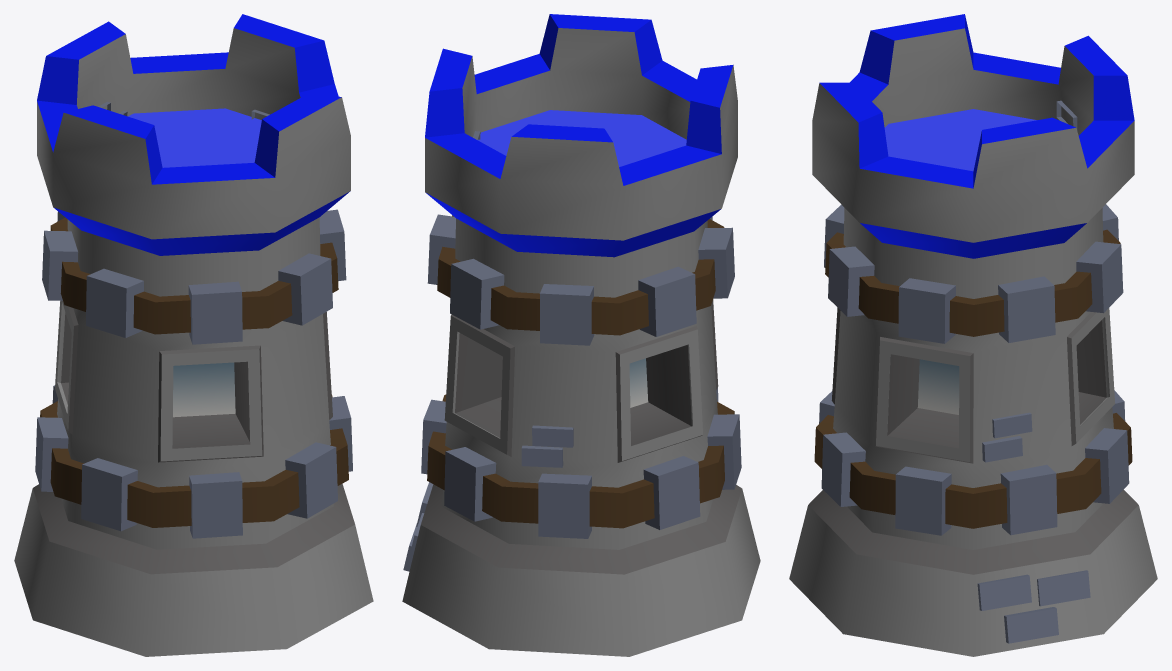
File: Tower9.fbx
3 renders of one model, left to right at view 1: azimuth 30°, elevation 25°; view 2: azimuth 150°, elevation 25°; view 3: azimuth 270°, elevation 25°, orthographic.
Parts seen in each view (by area): view 1: Tower9; view 2: Tower9; view 3: Tower9.
Part boxes in pixels (x1,y1,x2,y2): Tower9: [14, 14, 373, 656]; Tower9: [402, 14, 760, 656]; Tower9: [789, 14, 1157, 656].
Size of the model in its own units: 400 by 600 by 400.
